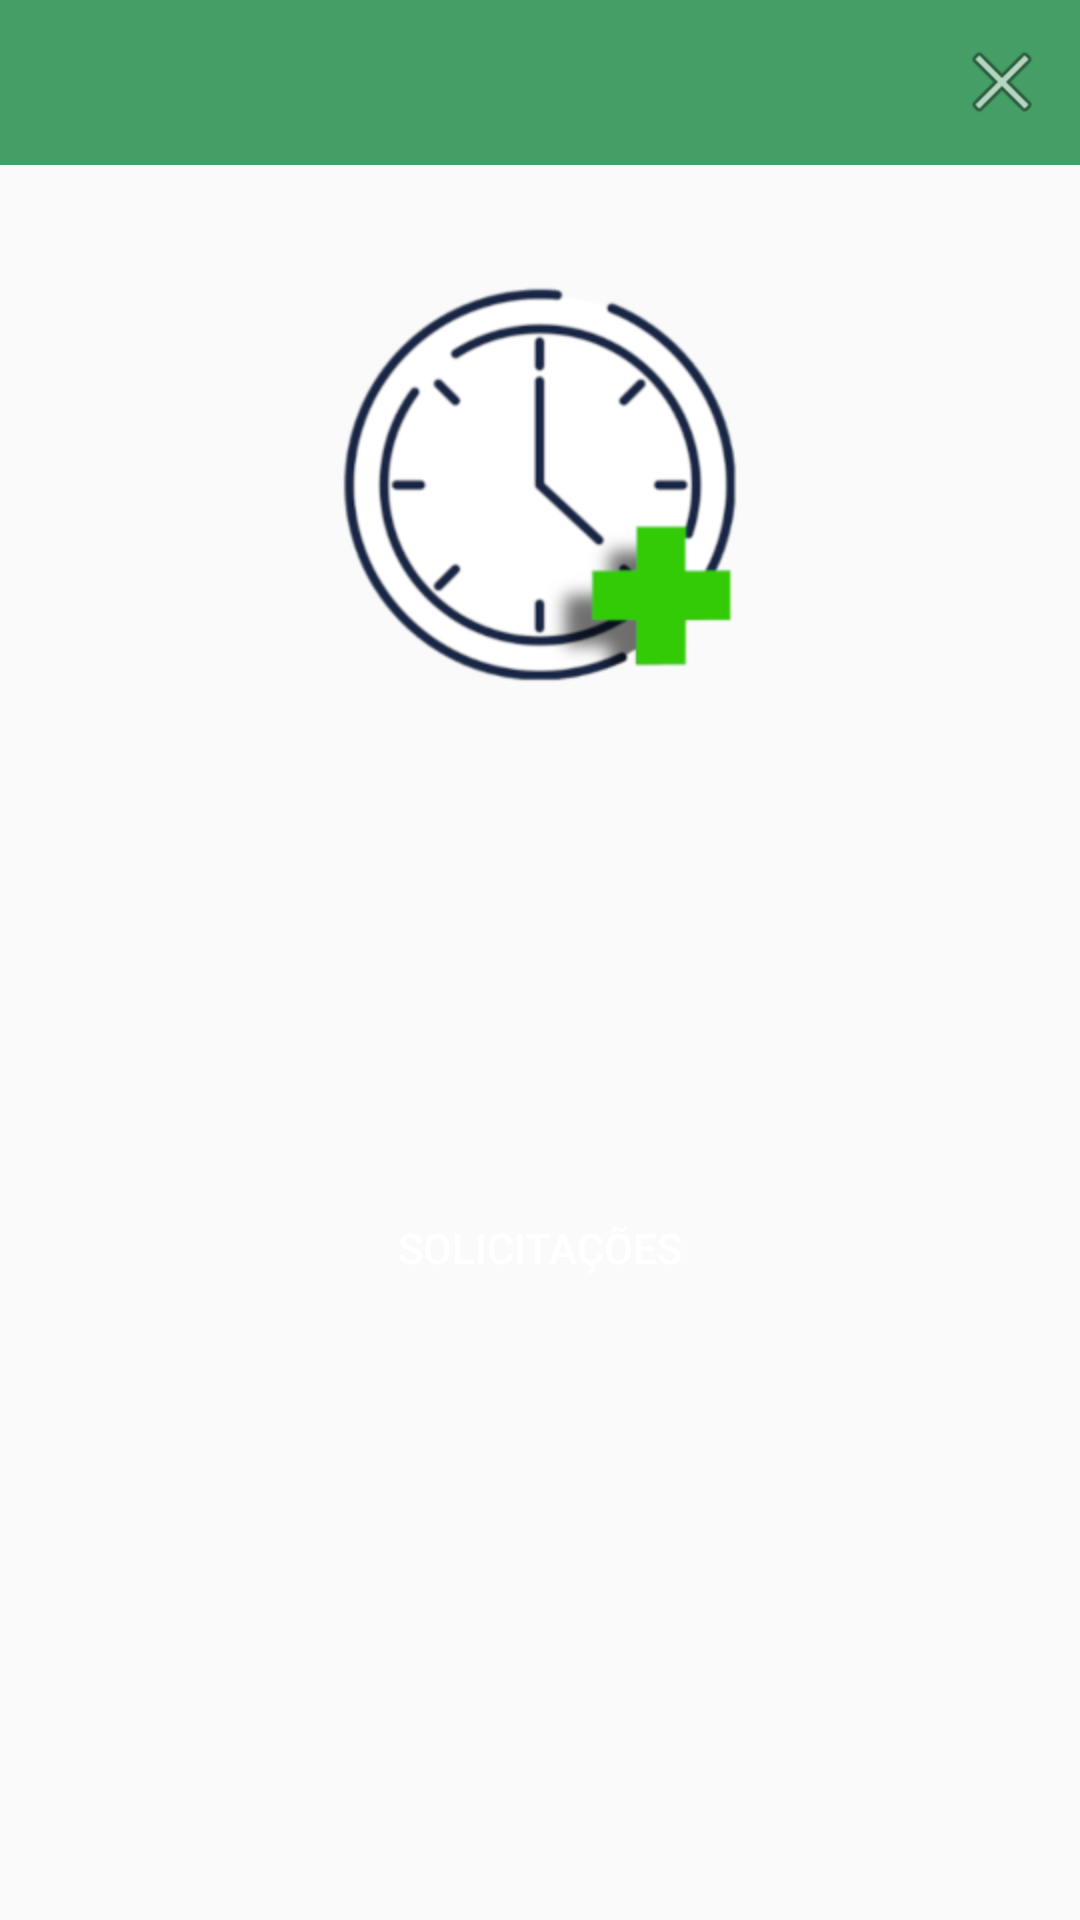

Icon click points for this 1080*1920 phone screenshot, format point (x, y):
close clear cancel: point (1002, 82)
